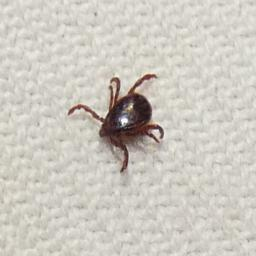Rhipicephalus sanguineus: (66, 72, 163, 173)
